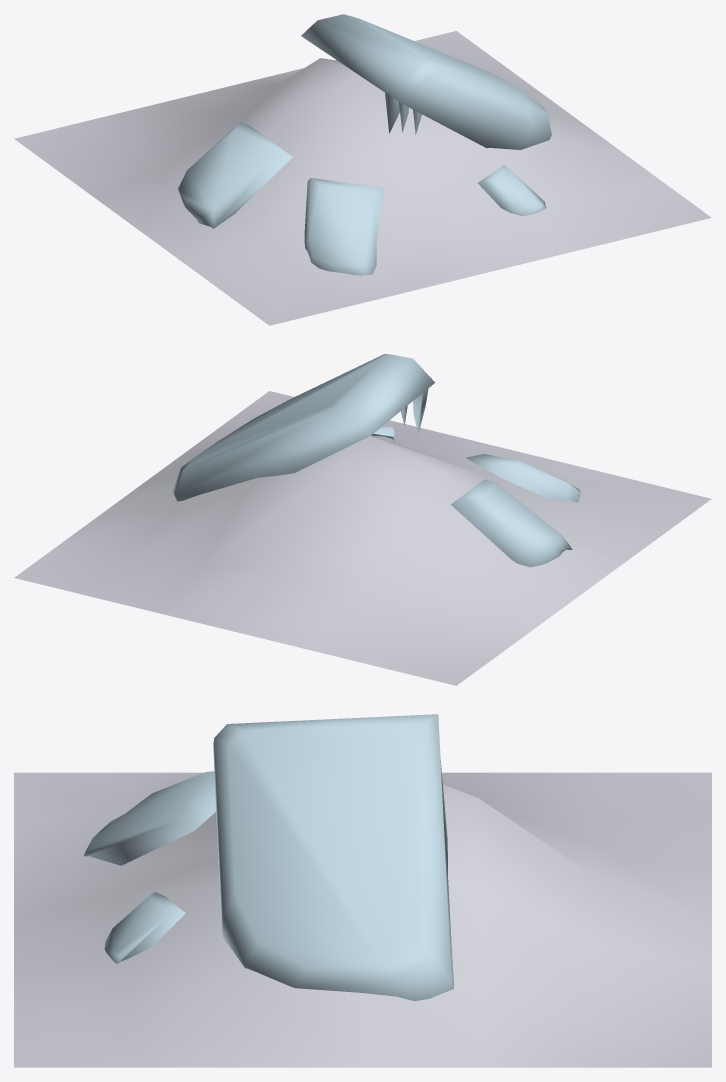
The model's file is IceDebris.fbx.
3 renders of one model, top to bottom at view 1: azimuth 30°, elevation 25°; view 2: azimuth 150°, elevation 25°; view 3: azimuth 270°, elevation 25°, orthographic. The views are drawn at different scales.
Parts seen in each view (by area): view 1: Plane.321; view 2: Plane.321; view 3: Plane.321.
Part boxes in pixels (bbox=[...]): Plane.321: bbox=[14, 14, 711, 325]; Plane.321: bbox=[14, 354, 711, 685]; Plane.321: bbox=[14, 714, 711, 1067].
Bounding box in the file's own units: 200 × 70.8 × 200.
